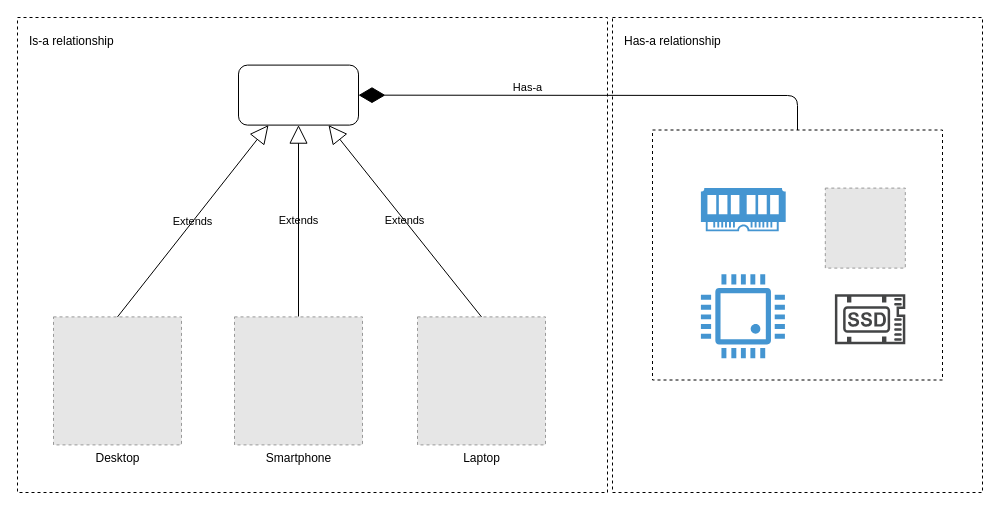
Some shapes in this 1000 by 510 pixel diagram are drawn without their labels. Grey dashed boxes stand in for pictures. Here are the shapes that lost their labels. From the top down, the box of each, then its label:
(238, 64, 358, 125): Computer
(652, 129, 942, 380): Core Components
